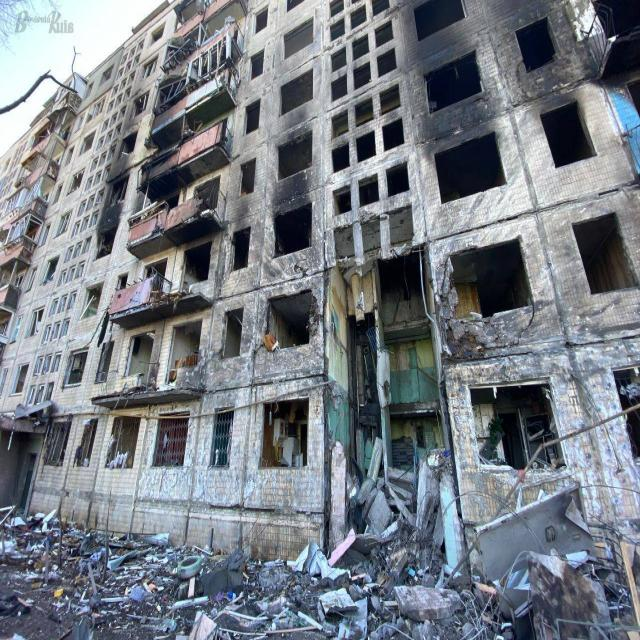broken_window: (570, 210, 638, 296), (433, 130, 507, 204), (423, 48, 485, 116), (539, 98, 597, 169), (259, 398, 309, 468), (266, 289, 314, 351), (514, 15, 558, 74), (272, 201, 312, 258), (152, 412, 190, 467), (209, 407, 233, 468)
building: (1, 0, 638, 598)
